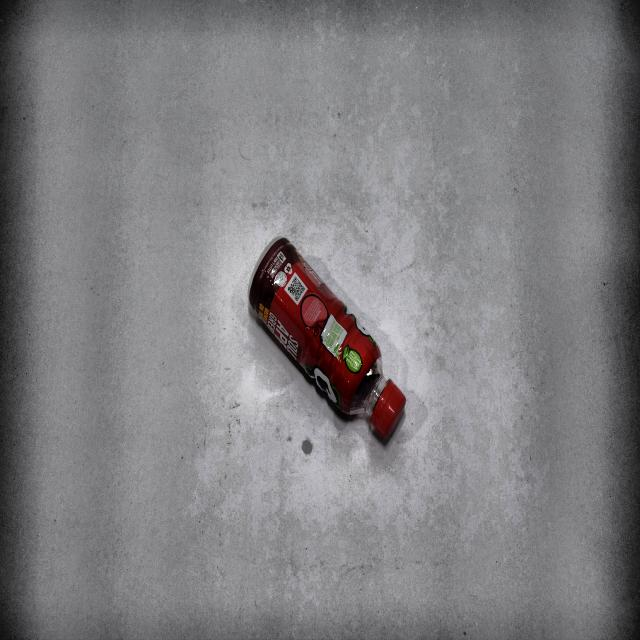Bottles: (247, 229, 411, 444)
